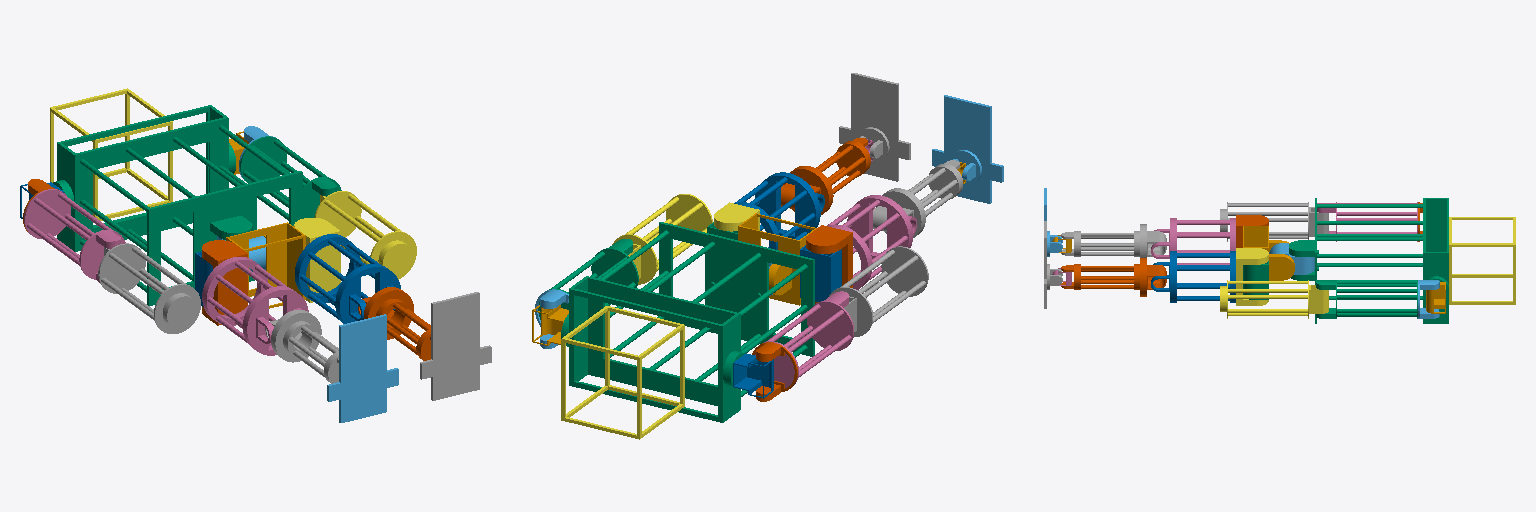
--- What the picture shows (computed from the rendered views, not written in the file) ---
The picture shows the robot from 3 angles, left to right: view 1: azimuth 30°, elevation 25°; view 2: azimuth 150°, elevation 25°; view 3: azimuth 270°, elevation 25°; orthographic projection.
Robot: olympian — 24 links, 23 joints (23 continuous); root link base_link; default pose: all joints at 0.
Links seen in each view (by area): view 1: Chest_v13_1, Foot_v4_2, Foot_v4_1, Lower_Arm_v8_1, Upper_Leg_v4_1, Upper_Leg_v4_2, Upper_Arm_v10_1, Lower_Arm_v8_2, Lower_Leg_v6_1, Upper_Arm_v10_3, Box_Head_v5_1, base_link (+3 smaller); view 2: Chest_v13_1, Foot_v4_1, Foot_v4_2, Box_Head_v5_1, Lower_Arm_v8_1, Upper_Arm_v10_1, Upper_Leg_v4_1, Upper_Leg_v4_2, Lower_Arm_v8_2, Lower_Leg_v6_1, Lower_Leg_v6_2, base_link (+8 smaller); view 3: Chest_v13_1, Lower_Arm_v8_2, Lower_Leg_v6_2, Lower_Leg_v6_1, Upper_Leg_v4_2, Upper_Arm_v10_3, Lower_Arm_v8_1, Upper_Leg_v4_1, Box_Head_v5_1, base_link, Upper_Arm_v10_1, Leg_Roll_v4_2 (+2 smaller).
Link boxes in pixels (left/top/right/bottom): Chest_v13_1: left=53, top=105, right=302, bottom=305; Foot_v4_2: left=420, top=292, right=491, bottom=400; Foot_v4_1: left=327, top=314, right=398, bottom=422; Lower_Arm_v8_1: left=98, top=243, right=200, bottom=333; Upper_Leg_v4_1: left=202, top=257, right=308, bottom=355; Upper_Leg_v4_2: left=295, top=234, right=400, bottom=323; Upper_Arm_v10_1: left=24, top=189, right=125, bottom=282; Lower_Arm_v8_2: left=314, top=191, right=416, bottom=279; Lower_Leg_v6_1: left=265, top=310, right=338, bottom=383; Upper_Arm_v10_3: left=240, top=136, right=341, bottom=218; Box_Head_v5_1: left=50, top=88, right=172, bottom=220; base_link: left=226, top=222, right=305, bottom=308; Chest_v13_1: left=561, top=222, right=814, bottom=422; Foot_v4_1: left=932, top=95, right=1003, bottom=203; Foot_v4_2: left=839, top=73, right=910, bottom=181; Box_Head_v5_1: left=561, top=306, right=684, bottom=439; Lower_Arm_v8_1: left=829, top=246, right=928, bottom=336; Upper_Arm_v10_1: left=755, top=291, right=853, bottom=387; Upper_Leg_v4_1: left=827, top=195, right=916, bottom=289; Upper_Leg_v4_2: left=734, top=172, right=824, bottom=249; Lower_Arm_v8_2: left=612, top=194, right=712, bottom=284; Lower_Leg_v6_1: left=873, top=160, right=962, bottom=237; Lower_Leg_v6_2: left=781, top=138, right=870, bottom=214; base_link: left=738, top=213, right=816, bottom=305; Chest_v13_1: left=1289, top=198, right=1448, bottom=323; Lower_Arm_v8_2: left=1220, top=280, right=1328, bottom=318; Lower_Leg_v6_2: left=1061, top=258, right=1166, bottom=296; Lower_Leg_v6_1: left=1061, top=224, right=1166, bottom=257; Upper_Leg_v4_2: left=1151, top=251, right=1235, bottom=302; Upper_Arm_v10_3: left=1316, top=280, right=1417, bottom=318; Lower_Arm_v8_1: left=1220, top=202, right=1328, bottom=241; Upper_Leg_v4_1: left=1151, top=218, right=1235, bottom=264; Box_Head_v5_1: left=1449, top=217, right=1515, bottom=304; base_link: left=1243, top=226, right=1294, bottom=280; Upper_Arm_v10_1: left=1317, top=202, right=1417, bottom=241; Leg_Roll_v4_2: left=1236, top=248, right=1268, bottom=305.
Size in the robot's own frame: 0.85 by 1.81 by 0.35 metres.
Meshes: 24 distinct files referenced, 24 mesh visuals loaded (24 binary STL).

URDF robot description (olympian):
<?xml version="1.0" ?>
<robot name="olympian">

<material name="silver">
  <color rgba="0.700 0.700 0.700 1.000"/>
</material>

<link name="base_link">
  <inertial>
    <origin rpy="0 0 0" xyz="0.10000000000000007 0.8721666232732109 0.09999999999999991"/>
    <mass value="1.1521008690150791"/>
    <inertia ixx="0.005223496631877045" ixy="1.3877787807814457e-17" ixz="-5.204170427930421e-18" iyy="0.008530264202422193" iyz="1.3877787807814457e-17" izz="0.00899190194325905"/>
  </inertial>
  <visual>
    <origin rpy="0 0 0" xyz="0 0 0"/>
    <geometry>
      <mesh filename="meshes/base_link.stl" scale="0.001 0.001 0.001"/>
    </geometry>
    <material name="silver"/>
    <material/>
  </visual>
  <collision>
    <origin rpy="0 0 0" xyz="0 0 0"/>
    <geometry>
      <mesh filename="meshes/base_link.stl" scale="0.001 0.001 0.001"/>
    </geometry>
  </collision>
</link>

<link name="Pelvis_v7_1">
  <inertial>
    <origin rpy="0 0 0" xyz="0.0500000000000001 0.029353425629582097 -8.326672684688674e-17"/>
    <mass value="0.5947505206015595"/>
    <inertia ixx="0.001878872568180423" ixy="-6.938893903907228e-18" ixz="8.673617379884035e-19" iyy="0.0010976440297574865" iyz="0.0" izz="0.0020170369281690137"/>
  </inertial>
  <visual>
    <origin rpy="0 0 0" xyz="-0.05 -0.912 -0.1"/>
    <geometry>
      <mesh filename="meshes/Pelvis_v7_1.stl" scale="0.001 0.001 0.001"/>
    </geometry>
    <material name="silver"/>
    <material/>
  </visual>
  <collision>
    <origin rpy="0 0 0" xyz="-0.05 -0.912 -0.1"/>
    <geometry>
      <mesh filename="meshes/Pelvis_v7_1.stl" scale="0.001 0.001 0.001"/>
    </geometry>
  </collision>
</link>

<link name="Chest_v13_1">
  <inertial>
    <origin rpy="0 0 0" xyz="-8.16883662474871e-05 0.29542660059637427 0.03749999999999985"/>
    <mass value="5.882339234080889"/>
    <inertia ixx="0.3281120038896237" ixy="-0.00011552947303483663" ixz="-4.85722573273506e-17" iyy="0.23780786856479746" iyz="0.0" izz="0.462024450225778"/>
  </inertial>
  <visual>
    <origin rpy="0 0 0" xyz="-0.1 -0.987 -0.0625"/>
    <geometry>
      <mesh filename="meshes/Chest_v13_1.stl" scale="0.001 0.001 0.001"/>
    </geometry>
    <material name="silver"/>
    <material/>
  </visual>
  <collision>
    <origin rpy="0 0 0" xyz="-0.1 -0.987 -0.0625"/>
    <geometry>
      <mesh filename="meshes/Chest_v13_1.stl" scale="0.001 0.001 0.001"/>
    </geometry>
  </collision>
</link>

<link name="Box_Head_v5_1">
  <inertial>
    <origin rpy="0 0 0" xyz="7.216449660063518e-16 0.12700000029388225 -7.494005416219807e-16"/>
    <mass value="0.4129840000000015"/>
    <inertia ixx="0.00953546956266682" ixy="0.0" ixz="-1.231653667943533e-16" iyy="0.009535469562666835" iyz="-6.938893903907228e-17" izz="0.009535469562666599"/>
  </inertial>
  <visual>
    <origin rpy="0 0 0" xyz="-0.1 -1.5534 -0.1"/>
    <geometry>
      <mesh filename="meshes/Box_Head_v5_1.stl" scale="0.001 0.001 0.001"/>
    </geometry>
    <material name="silver"/>
    <material/>
  </visual>
  <collision>
    <origin rpy="0 0 0" xyz="-0.1 -1.5534 -0.1"/>
    <geometry>
      <mesh filename="meshes/Box_Head_v5_1.stl" scale="0.001 0.001 0.001"/>
    </geometry>
  </collision>
</link>

<link name="Upper_Arm_Link_type_b_v9_1">
  <inertial>
    <origin rpy="0 0 0" xyz="-0.03931045800644403 -0.01095588172168327 -1.1102230246251565e-16"/>
    <mass value="0.11011202726048713"/>
    <inertia ixx="0.00016930933911268875" ixy="-1.8614392972189642e-05" ixz="0.0" iyy="0.00022075846035969106" iyz="0.0" izz="0.00018206077085142214"/>
  </inertial>
  <visual>
    <origin rpy="0 0 0" xyz="0.175 -1.5034 -0.1"/>
    <geometry>
      <mesh filename="meshes/Upper_Arm_Link_type_b_v9_1.stl" scale="0.001 0.001 0.001"/>
    </geometry>
    <material name="silver"/>
    <material/>
  </visual>
  <collision>
    <origin rpy="0 0 0" xyz="0.175 -1.5034 -0.1"/>
    <geometry>
      <mesh filename="meshes/Upper_Arm_Link_type_b_v9_1.stl" scale="0.001 0.001 0.001"/>
    </geometry>
  </collision>
</link>

<link name="Upper_Arm_Roll_Link_v5_1">
  <inertial>
    <origin rpy="0 0 0" xyz="2.7755575615628914e-16 -0.022135117628713674 0.04999999999999977"/>
    <mass value="0.29143432706119626"/>
    <inertia ixx="0.001232763287600247" ixy="-1.3877787807814457e-17" ixz="0.0" iyy="0.0011938412922212066" iyz="0.0" izz="0.0002924682777396548"/>
  </inertial>
  <visual>
    <origin rpy="0 0 0" xyz="0.25 -1.4909 -0.05"/>
    <geometry>
      <mesh filename="meshes/Upper_Arm_Roll_Link_v5_1.stl" scale="0.001 0.001 0.001"/>
    </geometry>
    <material name="silver"/>
    <material/>
  </visual>
  <collision>
    <origin rpy="0 0 0" xyz="0.25 -1.4909 -0.05"/>
    <geometry>
      <mesh filename="meshes/Upper_Arm_Roll_Link_v5_1.stl" scale="0.001 0.001 0.001"/>
    </geometry>
  </collision>
</link>

<link name="Upper_Arm_v10_1">
  <inertial>
    <origin rpy="0 0 0" xyz="-9.4696507857428e-09 -0.2073127422998453 -2.498001805406602e-16"/>
    <mass value="0.9419240929020993"/>
    <inertia ixx="0.019683528982801235" ixy="-1.6353899900956037e-09" ixz="5.370703881624195e-15" iyy="0.0034983199985584718" iyz="4.163336342344337e-17" izz="0.018812734327518177"/>
  </inertial>
  <visual>
    <origin rpy="0 0 0" xyz="0.25 -1.43455 -0.1"/>
    <geometry>
      <mesh filename="meshes/Upper_Arm_v10_1.stl" scale="0.001 0.001 0.001"/>
    </geometry>
    <material name="silver"/>
    <material/>
  </visual>
  <collision>
    <origin rpy="0 0 0" xyz="0.25 -1.43455 -0.1"/>
    <geometry>
      <mesh filename="meshes/Upper_Arm_v10_1.stl" scale="0.001 0.001 0.001"/>
    </geometry>
  </collision>
</link>

<link name="Lower_Arm_v8_1">
  <inertial>
    <origin rpy="0 0 0" xyz="-1.6264767310758543e-14 -0.22711717106463236 -0.05000000000000018"/>
    <mass value="1.1287862597517475"/>
    <inertia ixx="0.025545638419054995" ixy="1.7486012637846216e-15" ixz="5.367234434672241e-15" iyy="0.0030604925430051527" iyz="0.0" izz="0.025477987567271376"/>
  </inertial>
  <visual>
    <origin rpy="0 0 0" xyz="0.25 -1.06705 -0.15"/>
    <geometry>
      <mesh filename="meshes/Lower_Arm_v8_1.stl" scale="0.001 0.001 0.001"/>
    </geometry>
    <material name="silver"/>
    <material/>
  </visual>
  <collision>
    <origin rpy="0 0 0" xyz="0.25 -1.06705 -0.15"/>
    <geometry>
      <mesh filename="meshes/Lower_Arm_v8_1.stl" scale="0.001 0.001 0.001"/>
    </geometry>
  </collision>
</link>

<link name="Upper_Arm_Link_type_b_v9_2">
  <inertial>
    <origin rpy="0 0 0" xyz="0.039310458006444615 -0.01095588172168327 -2.3592239273284576e-16"/>
    <mass value="0.11011202726048713"/>
    <inertia ixx="0.00016930933911268875" ixy="1.861439297219658e-05" ixz="8.673617379884035e-19" iyy="0.00022075846035969626" iyz="3.469446951953614e-18" izz="0.00018206077085142214"/>
  </inertial>
  <visual>
    <origin rpy="0 0 0" xyz="-0.375 -1.5034 -0.1"/>
    <geometry>
      <mesh filename="meshes/Upper_Arm_Link_type_b_v9_2.stl" scale="0.001 0.001 0.001"/>
    </geometry>
    <material name="silver"/>
    <material/>
  </visual>
  <collision>
    <origin rpy="0 0 0" xyz="-0.375 -1.5034 -0.1"/>
    <geometry>
      <mesh filename="meshes/Upper_Arm_Link_type_b_v9_2.stl" scale="0.001 0.001 0.001"/>
    </geometry>
  </collision>
</link>

<link name="Upper_Arm_Roll_Link_v5_2">
  <inertial>
    <origin rpy="0 0 0" xyz="1.1102230246251565e-16 -0.022135117628713674 0.04999999999999988"/>
    <mass value="0.29143432706119626"/>
    <inertia ixx="0.001232763287600247" ixy="-2.7755575615628914e-17" ixz="-3.469446951953614e-18" iyy="0.0011938412922212066" iyz="6.938893903907228e-18" izz="0.0002924682777396548"/>
  </inertial>
  <visual>
    <origin rpy="0 0 0" xyz="-0.45 -1.4909 -0.05"/>
    <geometry>
      <mesh filename="meshes/Upper_Arm_Roll_Link_v5_2.stl" scale="0.001 0.001 0.001"/>
    </geometry>
    <material name="silver"/>
    <material/>
  </visual>
  <collision>
    <origin rpy="0 0 0" xyz="-0.45 -1.4909 -0.05"/>
    <geometry>
      <mesh filename="meshes/Upper_Arm_Roll_Link_v5_2.stl" scale="0.001 0.001 0.001"/>
    </geometry>
  </collision>
</link>

<link name="Upper_Arm_v10_3">
  <inertial>
    <origin rpy="0 0 0" xyz="-9.469650730231649e-09 -0.2073127422998453 -1.249000902703301e-16"/>
    <mass value="0.9419240929020993"/>
    <inertia ixx="0.019683528982801235" ixy="-1.63538982356215e-09" ixz="5.377642775528102e-15" iyy="0.00349831999855843" iyz="2.7755575615628914e-17" izz="0.018812734327517733"/>
  </inertial>
  <visual>
    <origin rpy="0 0 0" xyz="-0.45 -1.43455 -0.1"/>
    <geometry>
      <mesh filename="meshes/Upper_Arm_v10_3.stl" scale="0.001 0.001 0.001"/>
    </geometry>
    <material name="silver"/>
    <material/>
  </visual>
  <collision>
    <origin rpy="0 0 0" xyz="-0.45 -1.43455 -0.1"/>
    <geometry>
      <mesh filename="meshes/Upper_Arm_v10_3.stl" scale="0.001 0.001 0.001"/>
    </geometry>
  </collision>
</link>

<link name="Lower_Arm_v8_2">
  <inertial>
    <origin rpy="0 0 0" xyz="-1.6264767310758543e-14 -0.22711717106463236 0.04999999999999989"/>
    <mass value="1.1287862597517475"/>
    <inertia ixx="0.025545638419054995" ixy="1.7208456881689926e-15" ixz="5.370703881624195e-15" iyy="0.0030604925430051666" iyz="0.0" izz="0.02547798756727171"/>
  </inertial>
  <visual>
    <origin rpy="0 0 0" xyz="-0.45 -1.06705 -0.05"/>
    <geometry>
      <mesh filename="meshes/Lower_Arm_v8_2.stl" scale="0.001 0.001 0.001"/>
    </geometry>
    <material name="silver"/>
    <material/>
  </visual>
  <collision>
    <origin rpy="0 0 0" xyz="-0.45 -1.06705 -0.05"/>
    <geometry>
      <mesh filename="meshes/Lower_Arm_v8_2.stl" scale="0.001 0.001 0.001"/>
    </geometry>
  </collision>
</link>

<link name="Leg_Pitch_v5_1">
  <inertial>
    <origin rpy="0 0 0" xyz="-0.04683508876022923 0.003164911239771029 -1.249000902703301e-16"/>
    <mass value="0.3280666863874879"/>
    <inertia ixx="0.0010883631339249633" ixy="5.307553597740794e-05" ixz="0.0" iyy="0.0010883631339250101" iyz="-3.469446951953614e-18" izz="0.0009464761938969279"/>
  </inertial>
  <visual>
    <origin rpy="0 0 0" xyz="-0.0 -0.812 -0.1"/>
    <geometry>
      <mesh filename="meshes/Leg_Pitch_v5_1.stl" scale="0.001 0.001 0.001"/>
    </geometry>
    <material name="silver"/>
    <material/>
  </visual>
  <collision>
    <origin rpy="0 0 0" xyz="-0.0 -0.812 -0.1"/>
    <geometry>
      <mesh filename="meshes/Leg_Pitch_v5_1.stl" scale="0.001 0.001 0.001"/>
    </geometry>
  </collision>
</link>

<link name="Leg_Roll_v4_1">
  <inertial>
    <origin rpy="0 0 0" xyz="4.163336342344337e-17 -0.035223067053444135 0.07499999999999987"/>
    <mass value="1.3532798434145876"/>
    <inertia ixx="0.008928053332240893" ixy="2.0816681711721685e-17" ixz="2.6020852139652106e-18" iyy="0.008372644528454914" iyz="1.3877787807814457e-17" izz="0.002693883608054226"/>
  </inertial>
  <visual>
    <origin rpy="0 0 0" xyz="0.05 -0.812 -0.025"/>
    <geometry>
      <mesh filename="meshes/Leg_Roll_v4_1.stl" scale="0.001 0.001 0.001"/>
    </geometry>
    <material name="silver"/>
    <material/>
  </visual>
  <collision>
    <origin rpy="0 0 0" xyz="0.05 -0.812 -0.025"/>
    <geometry>
      <mesh filename="meshes/Leg_Roll_v4_1.stl" scale="0.001 0.001 0.001"/>
    </geometry>
  </collision>
</link>

<link name="Upper_Leg_v4_1">
  <inertial>
    <origin rpy="0 0 0" xyz="1.1102230246251565e-16 -0.15757232755407236 -1.8041124150158794e-16"/>
    <mass value="1.7214182603818151"/>
    <inertia ixx="0.023647064861463618" ixy="6.938893903907228e-18" ixz="1.734723475976807e-18" iyy="0.012028681141913265" iyz="0.0" izz="0.02456431452088892"/>
  </inertial>
  <visual>
    <origin rpy="0 0 0" xyz="0.05 -0.737 -0.1"/>
    <geometry>
      <mesh filename="meshes/Upper_Leg_v4_1.stl" scale="0.001 0.001 0.001"/>
    </geometry>
    <material name="silver"/>
    <material/>
  </visual>
  <collision>
    <origin rpy="0 0 0" xyz="0.05 -0.737 -0.1"/>
    <geometry>
      <mesh filename="meshes/Upper_Leg_v4_1.stl" scale="0.001 0.001 0.001"/>
    </geometry>
  </collision>
</link>

<link name="Lower_Leg_v6_1">
  <inertial>
    <origin rpy="0 0 0" xyz="0.04999999999999136 -0.14147821247779935 -2.220446049250313e-16"/>
    <mass value="1.4272888897799032"/>
    <inertia ixx="0.020272030317633083" ixy="-1.321859288694327e-15" ixz="-2.2083029849184754e-15" iyy="0.0030707995313369076" iyz="2.0816681711721685e-17" izz="0.0202788236044206"/>
  </inertial>
  <visual>
    <origin rpy="0 0 0" xyz="0.1 -0.4388 -0.1"/>
    <geometry>
      <mesh filename="meshes/Lower_Leg_v6_1.stl" scale="0.001 0.001 0.001"/>
    </geometry>
    <material name="silver"/>
    <material/>
  </visual>
  <collision>
    <origin rpy="0 0 0" xyz="0.1 -0.4388 -0.1"/>
    <geometry>
      <mesh filename="meshes/Lower_Leg_v6_1.stl" scale="0.001 0.001 0.001"/>
    </geometry>
  </collision>
</link>

<link name="Ankle_Link_v5_1">
  <inertial>
    <origin rpy="0 0 0" xyz="1.3877787807814457e-16 -0.014239102534719106 0.02999999999999975"/>
    <mass value="0.02966359637804546"/>
    <inertia ixx="3.134717230673462e-05" ixy="4.0657581468206416e-20" ixz="-2.710505431213761e-20" iyy="1.4582407636994814e-05" iyz="-8.131516293641283e-20" izz="2.6914982867941583e-05"/>
  </inertial>
  <visual>
    <origin rpy="0 0 0" xyz="0.05 -0.0856 -0.07"/>
    <geometry>
      <mesh filename="meshes/Ankle_Link_v5_1.stl" scale="0.001 0.001 0.001"/>
    </geometry>
    <material name="silver"/>
    <material/>
  </visual>
  <collision>
    <origin rpy="0 0 0" xyz="0.05 -0.0856 -0.07"/>
    <geometry>
      <mesh filename="meshes/Ankle_Link_v5_1.stl" scale="0.001 0.001 0.001"/>
    </geometry>
  </collision>
</link>

<link name="Foot_v4_1">
  <inertial>
    <origin rpy="0 0 0" xyz="0.019685521169740886 -0.04039401004788472 0.03625642783112948"/>
    <mass value="0.8921618023336354"/>
    <inertia ixx="0.005514801902865251" ixy="-1.2922841769047867e-06" ixz="2.766319069131759e-06" iyy="0.0072372522773541705" iyz="0.00014898811458507826" izz="0.0019767483724834646"/>
  </inertial>
  <visual>
    <origin rpy="0 0 0" xyz="0.07 -0.0506 -0.1"/>
    <geometry>
      <mesh filename="meshes/Foot_v4_1.stl" scale="0.001 0.001 0.001"/>
    </geometry>
    <material name="silver"/>
    <material/>
  </visual>
  <collision>
    <origin rpy="0 0 0" xyz="0.07 -0.0506 -0.1"/>
    <geometry>
      <mesh filename="meshes/Foot_v4_1.stl" scale="0.001 0.001 0.001"/>
    </geometry>
  </collision>
</link>

<link name="Leg_Pitch_v5_2">
  <inertial>
    <origin rpy="0 0 0" xyz="0.046835088760229515 0.003164911239771029 -1.1102230246251565e-16"/>
    <mass value="0.3280666863874879"/>
    <inertia ixx="0.0010883631339249633" ixy="-5.307553597741488e-05" ixz="-1.734723475976807e-18" iyy="0.0010883631339250188" iyz="0.0" izz="0.0009464761938969279"/>
  </inertial>
  <visual>
    <origin rpy="0 0 0" xyz="-0.2 -0.812 -0.1"/>
    <geometry>
      <mesh filename="meshes/Leg_Pitch_v5_2.stl" scale="0.001 0.001 0.001"/>
    </geometry>
    <material name="silver"/>
    <material/>
  </visual>
  <collision>
    <origin rpy="0 0 0" xyz="-0.2 -0.812 -0.1"/>
    <geometry>
      <mesh filename="meshes/Leg_Pitch_v5_2.stl" scale="0.001 0.001 0.001"/>
    </geometry>
  </collision>
</link>

<link name="Leg_Roll_v4_2">
  <inertial>
    <origin rpy="0 0 0" xyz="3.3306690738754696e-16 -0.035223067053444135 0.0749999999999999"/>
    <mass value="1.3532798434145876"/>
    <inertia ixx="0.008928053332240893" ixy="-5.551115123125783e-17" ixz="-6.938893903907228e-18" iyy="0.008372644528454903" iyz="-1.3877787807814457e-17" izz="0.002693883608054337"/>
  </inertial>
  <visual>
    <origin rpy="0 0 0" xyz="-0.25 -0.812 -0.025"/>
    <geometry>
      <mesh filename="meshes/Leg_Roll_v4_2.stl" scale="0.001 0.001 0.001"/>
    </geometry>
    <material name="silver"/>
    <material/>
  </visual>
  <collision>
    <origin rpy="0 0 0" xyz="-0.25 -0.812 -0.025"/>
    <geometry>
      <mesh filename="meshes/Leg_Roll_v4_2.stl" scale="0.001 0.001 0.001"/>
    </geometry>
  </collision>
</link>

<link name="Upper_Leg_v4_2">
  <inertial>
    <origin rpy="0 0 0" xyz="3.885780586188048e-16 -0.15757232755407236 -1.249000902703301e-16"/>
    <mass value="1.7214182603818151"/>
    <inertia ixx="0.023647064861463618" ixy="-5.551115123125783e-17" ixz="0.0" iyy="0.012028681141913258" iyz="0.0" izz="0.02456431452088892"/>
  </inertial>
  <visual>
    <origin rpy="0 0 0" xyz="-0.25 -0.737 -0.1"/>
    <geometry>
      <mesh filename="meshes/Upper_Leg_v4_2.stl" scale="0.001 0.001 0.001"/>
    </geometry>
    <material name="silver"/>
    <material/>
  </visual>
  <collision>
    <origin rpy="0 0 0" xyz="-0.25 -0.737 -0.1"/>
    <geometry>
      <mesh filename="meshes/Upper_Leg_v4_2.stl" scale="0.001 0.001 0.001"/>
    </geometry>
  </collision>
</link>

<link name="Lower_Leg_v6_2">
  <inertial>
    <origin rpy="0 0 0" xyz="-0.05000000000000834 -0.14147821247779935 -9.71445146547012e-17"/>
    <mass value="1.4272888897799032"/>
    <inertia ixx="0.02027203031763311" ixy="-1.2906342661267445e-15" ixz="-2.2065682614424986e-15" iyy="0.003070799531336932" iyz="2.7755575615628914e-17" izz="0.0202788236044206"/>
  </inertial>
  <visual>
    <origin rpy="0 0 0" xyz="-0.3 -0.4388 -0.1"/>
    <geometry>
      <mesh filename="meshes/Lower_Leg_v6_2.stl" scale="0.001 0.001 0.001"/>
    </geometry>
    <material name="silver"/>
    <material/>
  </visual>
  <collision>
    <origin rpy="0 0 0" xyz="-0.3 -0.4388 -0.1"/>
    <geometry>
      <mesh filename="meshes/Lower_Leg_v6_2.stl" scale="0.001 0.001 0.001"/>
    </geometry>
  </collision>
</link>

<link name="Ankle_Link_v5_2">
  <inertial>
    <origin rpy="0 0 0" xyz="3.3306690738754696e-16 -0.014239102534719106 0.03"/>
    <mass value="0.02966359637804546"/>
    <inertia ixx="3.134717230673467e-05" ixy="-1.0842021724855044e-19" ixz="1.0842021724855044e-19" iyy="1.4582407636995302e-05" iyz="-8.131516293641283e-20" izz="2.6914982867942694e-05"/>
  </inertial>
  <visual>
    <origin rpy="0 0 0" xyz="-0.25 -0.0856 -0.07"/>
    <geometry>
      <mesh filename="meshes/Ankle_Link_v5_2.stl" scale="0.001 0.001 0.001"/>
    </geometry>
    <material name="silver"/>
    <material/>
  </visual>
  <collision>
    <origin rpy="0 0 0" xyz="-0.25 -0.0856 -0.07"/>
    <geometry>
      <mesh filename="meshes/Ankle_Link_v5_2.stl" scale="0.001 0.001 0.001"/>
    </geometry>
  </collision>
</link>

<link name="Foot_v4_2">
  <inertial>
    <origin rpy="0 0 0" xyz="-0.020314478830258637 -0.040394010047884774 0.03625642783112962"/>
    <mass value="0.8921618023336354"/>
    <inertia ixx="0.0055148019028652545" ixy="-1.2922841769041904e-06" ixz="2.766319069126555e-06" iyy="0.007237252277354292" iyz="0.00014898811458507587" izz="0.001976748372483461"/>
  </inertial>
  <visual>
    <origin rpy="0 0 0" xyz="-0.27 -0.0506 -0.1"/>
    <geometry>
      <mesh filename="meshes/Foot_v4_2.stl" scale="0.001 0.001 0.001"/>
    </geometry>
    <material name="silver"/>
    <material/>
  </visual>
  <collision>
    <origin rpy="0 0 0" xyz="-0.27 -0.0506 -0.1"/>
    <geometry>
      <mesh filename="meshes/Foot_v4_2.stl" scale="0.001 0.001 0.001"/>
    </geometry>
  </collision>
</link>

<joint name="Rev1" type="continuous">
  <origin rpy="0 0 0" xyz="0.05 0.912 0.1"/>
  <parent link="base_link"/>
  <child link="Pelvis_v7_1"/>
  <axis xyz="1.0 -0.0 -0.0"/>
</joint>
<transmission name="Rev1_tran">
  <type>transmission_interface/SimpleTransmission</type>
  <joint name="Rev1">
    <hardwareInterface>PositionJointInterface</hardwareInterface>
  </joint>
  <actuator name="Rev1_actr">
    <hardwareInterface>PositionJointInterface</hardwareInterface>
    <mechanicalReduction>1</mechanicalReduction>
  </actuator>
</transmission>

<joint name="Rev2" type="continuous">
  <origin rpy="0 0 0" xyz="0.05 0.075 -0.0375"/>
  <parent link="Pelvis_v7_1"/>
  <child link="Chest_v13_1"/>
  <axis xyz="-0.0 -0.0 -1.0"/>
</joint>
<transmission name="Rev2_tran">
  <type>transmission_interface/SimpleTransmission</type>
  <joint name="Rev2">
    <hardwareInterface>PositionJointInterface</hardwareInterface>
  </joint>
  <actuator name="Rev2_actr">
    <hardwareInterface>PositionJointInterface</hardwareInterface>
    <mechanicalReduction>1</mechanicalReduction>
  </actuator>
</transmission>

<joint name="Rev11" type="continuous">
  <origin rpy="0 0 0" xyz="0.0 0.5664 0.0375"/>
  <parent link="Chest_v13_1"/>
  <child link="Box_Head_v5_1"/>
  <axis xyz="0.0 1.0 -0.0"/>
</joint>
<transmission name="Rev11_tran">
  <type>transmission_interface/SimpleTransmission</type>
  <joint name="Rev11">
    <hardwareInterface>PositionJointInterface</hardwareInterface>
  </joint>
  <actuator name="Rev11_actr">
    <hardwareInterface>PositionJointInterface</hardwareInterface>
    <mechanicalReduction>1</mechanicalReduction>
  </actuator>
</transmission>

<joint name="Rev3" type="continuous">
  <origin rpy="0 0 0" xyz="-0.275 0.5164 0.0375"/>
  <parent link="Chest_v13_1"/>
  <child link="Upper_Arm_Link_type_b_v9_1"/>
  <axis xyz="-1.0 0.0 0.0"/>
</joint>
<transmission name="Rev3_tran">
  <type>transmission_interface/SimpleTransmission</type>
  <joint name="Rev3">
    <hardwareInterface>PositionJointInterface</hardwareInterface>
  </joint>
  <actuator name="Rev3_actr">
    <hardwareInterface>PositionJointInterface</hardwareInterface>
    <mechanicalReduction>1</mechanicalReduction>
  </actuator>
</transmission>

<joint name="Rev4" type="continuous">
  <origin rpy="0 0 0" xyz="-0.075 -0.0125 -0.05"/>
  <parent link="Upper_Arm_Link_type_b_v9_1"/>
  <child link="Upper_Arm_Roll_Link_v5_1"/>
  <axis xyz="0.0 -0.0 -1.0"/>
</joint>
<transmission name="Rev4_tran">
  <type>transmission_interface/SimpleTransmission</type>
  <joint name="Rev4">
    <hardwareInterface>PositionJointInterface</hardwareInterface>
  </joint>
  <actuator name="Rev4_actr">
    <hardwareInterface>PositionJointInterface</hardwareInterface>
    <mechanicalReduction>1</mechanicalReduction>
  </actuator>
</transmission>

<joint name="Rev5" type="continuous">
  <origin rpy="0 0 0" xyz="0.0 -0.05635 0.05"/>
  <parent link="Upper_Arm_Roll_Link_v5_1"/>
  <child link="Upper_Arm_v10_1"/>
  <axis xyz="-0.0 -1.0 0.0"/>
</joint>
<transmission name="Rev5_tran">
  <type>transmission_interface/SimpleTransmission</type>
  <joint name="Rev5">
    <hardwareInterface>PositionJointInterface</hardwareInterface>
  </joint>
  <actuator name="Rev5_actr">
    <hardwareInterface>PositionJointInterface</hardwareInterface>
    <mechanicalReduction>1</mechanicalReduction>
  </actuator>
</transmission>

<joint name="Rev6" type="continuous">
  <origin rpy="0 0 0" xyz="0.0 -0.3675 0.05"/>
  <parent link="Upper_Arm_v10_1"/>
  <child link="Lower_Arm_v8_1"/>
  <axis xyz="0.0 -0.0 -1.0"/>
</joint>
<transmission name="Rev6_tran">
  <type>transmission_interface/SimpleTransmission</type>
  <joint name="Rev6">
    <hardwareInterface>PositionJointInterface</hardwareInterface>
  </joint>
  <actuator name="Rev6_actr">
    <hardwareInterface>PositionJointInterface</hardwareInterface>
    <mechanicalReduction>1</mechanicalReduction>
  </actuator>
</transmission>

<joint name="Rev7" type="continuous">
  <origin rpy="0 0 0" xyz="0.275 0.5164 0.0375"/>
  <parent link="Chest_v13_1"/>
  <child link="Upper_Arm_Link_type_b_v9_2"/>
  <axis xyz="1.0 -0.0 -0.0"/>
</joint>
<transmission name="Rev7_tran">
  <type>transmission_interface/SimpleTransmission</type>
  <joint name="Rev7">
    <hardwareInterface>PositionJointInterface</hardwareInterface>
  </joint>
  <actuator name="Rev7_actr">
    <hardwareInterface>PositionJointInterface</hardwareInterface>
    <mechanicalReduction>1</mechanicalReduction>
  </actuator>
</transmission>

<joint name="Rev8" type="continuous">
  <origin rpy="0 0 0" xyz="0.075 -0.0125 -0.05"/>
  <parent link="Upper_Arm_Link_type_b_v9_2"/>
  <child link="Upper_Arm_Roll_Link_v5_2"/>
  <axis xyz="0.0 -0.0 -1.0"/>
</joint>
<transmission name="Rev8_tran">
  <type>transmission_interface/SimpleTransmission</type>
  <joint name="Rev8">
    <hardwareInterface>PositionJointInterface</hardwareInterface>
  </joint>
  <actuator name="Rev8_actr">
    <hardwareInterface>PositionJointInterface</hardwareInterface>
    <mechanicalReduction>1</mechanicalReduction>
  </actuator>
</transmission>

<joint name="Rev9" type="continuous">
  <origin rpy="0 0 0" xyz="0.0 -0.05635 0.05"/>
  <parent link="Upper_Arm_Roll_Link_v5_2"/>
  <child link="Upper_Arm_v10_3"/>
  <axis xyz="0.0 -1.0 0.0"/>
</joint>
<transmission name="Rev9_tran">
  <type>transmission_interface/SimpleTransmission</type>
  <joint name="Rev9">
    <hardwareInterface>PositionJointInterface</hardwareInterface>
  </joint>
  <actuator name="Rev9_actr">
    <hardwareInterface>PositionJointInterface</hardwareInterface>
    <mechanicalReduction>1</mechanicalReduction>
  </actuator>
</transmission>

<joint name="Rev10" type="continuous">
  <origin rpy="0 0 0" xyz="0.0 -0.3675 -0.05"/>
  <parent link="Upper_Arm_v10_3"/>
  <child link="Lower_Arm_v8_2"/>
  <axis xyz="-0.0 0.0 1.0"/>
</joint>
<transmission name="Rev10_tran">
  <type>transmission_interface/SimpleTransmission</type>
  <joint name="Rev10">
    <hardwareInterface>PositionJointInterface</hardwareInterface>
  </joint>
  <actuator name="Rev10_actr">
    <hardwareInterface>PositionJointInterface</hardwareInterface>
    <mechanicalReduction>1</mechanicalReduction>
  </actuator>
</transmission>

<joint name="Rev12" type="continuous">
  <origin rpy="0 0 0" xyz="0.0 0.812 0.1"/>
  <parent link="base_link"/>
  <child link="Leg_Pitch_v5_1"/>
  <axis xyz="-1.0 0.0 0.0"/>
</joint>
<transmission name="Rev12_tran">
  <type>transmission_interface/SimpleTransmission</type>
  <joint name="Rev12">
    <hardwareInterface>PositionJointInterface</hardwareInterface>
  </joint>
  <actuator name="Rev12_actr">
    <hardwareInterface>PositionJointInterface</hardwareInterface>
    <mechanicalReduction>1</mechanicalReduction>
  </actuator>
</transmission>

<joint name="Rev13" type="continuous">
  <origin rpy="0 0 0" xyz="-0.05 0.0 -0.075"/>
  <parent link="Leg_Pitch_v5_1"/>
  <child link="Leg_Roll_v4_1"/>
  <axis xyz="0.0 0.0 -1.0"/>
</joint>
<transmission name="Rev13_tran">
  <type>transmission_interface/SimpleTransmission</type>
  <joint name="Rev13">
    <hardwareInterface>PositionJointInterface</hardwareInterface>
  </joint>
  <actuator name="Rev13_actr">
    <hardwareInterface>PositionJointInterface</hardwareInterface>
    <mechanicalReduction>1</mechanicalReduction>
  </actuator>
</transmission>

<joint name="Rev14" type="continuous">
  <origin rpy="0 0 0" xyz="0.0 -0.075 0.075"/>
  <parent link="Leg_Roll_v4_1"/>
  <child link="Upper_Leg_v4_1"/>
  <axis xyz="0.0 -1.0 0.0"/>
</joint>
<transmission name="Rev14_tran">
  <type>transmission_interface/SimpleTransmission</type>
  <joint name="Rev14">
    <hardwareInterface>PositionJointInterface</hardwareInterface>
  </joint>
  <actuator name="Rev14_actr">
    <hardwareInterface>PositionJointInterface</hardwareInterface>
    <mechanicalReduction>1</mechanicalReduction>
  </actuator>
</transmission>

<joint name="Rev15" type="continuous">
  <origin rpy="0 0 0" xyz="-0.05 -0.2982 0.0"/>
  <parent link="Upper_Leg_v4_1"/>
  <child link="Lower_Leg_v6_1"/>
  <axis xyz="1.0 -0.0 -0.0"/>
</joint>
<transmission name="Rev15_tran">
  <type>transmission_interface/SimpleTransmission</type>
  <joint name="Rev15">
    <hardwareInterface>PositionJointInterface</hardwareInterface>
  </joint>
  <actuator name="Rev15_actr">
    <hardwareInterface>PositionJointInterface</hardwareInterface>
    <mechanicalReduction>1</mechanicalReduction>
  </actuator>
</transmission>

<joint name="Rev16" type="continuous">
  <origin rpy="0 0 0" xyz="0.05 -0.3532 -0.03"/>
  <parent link="Lower_Leg_v6_1"/>
  <child link="Ankle_Link_v5_1"/>
  <axis xyz="-0.0 0.0 1.0"/>
</joint>
<transmission name="Rev16_tran">
  <type>transmission_interface/SimpleTransmission</type>
  <joint name="Rev16">
    <hardwareInterface>PositionJointInterface</hardwareInterface>
  </joint>
  <actuator name="Rev16_actr">
    <hardwareInterface>PositionJointInterface</hardwareInterface>
    <mechanicalReduction>1</mechanicalReduction>
  </actuator>
</transmission>

<joint name="Rev19" type="continuous">
  <origin rpy="0 0 0" xyz="-0.02 -0.035 0.03"/>
  <parent link="Ankle_Link_v5_1"/>
  <child link="Foot_v4_1"/>
  <axis xyz="-1.0 0.0 0.0"/>
</joint>
<transmission name="Rev19_tran">
  <type>transmission_interface/SimpleTransmission</type>
  <joint name="Rev19">
    <hardwareInterface>PositionJointInterface</hardwareInterface>
  </joint>
  <actuator name="Rev19_actr">
    <hardwareInterface>PositionJointInterface</hardwareInterface>
    <mechanicalReduction>1</mechanicalReduction>
  </actuator>
</transmission>

<joint name="Rev20" type="continuous">
  <origin rpy="0 0 0" xyz="0.2 0.812 0.1"/>
  <parent link="base_link"/>
  <child link="Leg_Pitch_v5_2"/>
  <axis xyz="1.0 -0.0 -0.0"/>
</joint>
<transmission name="Rev20_tran">
  <type>transmission_interface/SimpleTransmission</type>
  <joint name="Rev20">
    <hardwareInterface>PositionJointInterface</hardwareInterface>
  </joint>
  <actuator name="Rev20_actr">
    <hardwareInterface>PositionJointInterface</hardwareInterface>
    <mechanicalReduction>1</mechanicalReduction>
  </actuator>
</transmission>

<joint name="Rev21" type="continuous">
  <origin rpy="0 0 0" xyz="0.05 0.0 -0.075"/>
  <parent link="Leg_Pitch_v5_2"/>
  <child link="Leg_Roll_v4_2"/>
  <axis xyz="-0.0 -0.0 -1.0"/>
</joint>
<transmission name="Rev21_tran">
  <type>transmission_interface/SimpleTransmission</type>
  <joint name="Rev21">
    <hardwareInterface>PositionJointInterface</hardwareInterface>
  </joint>
  <actuator name="Rev21_actr">
    <hardwareInterface>PositionJointInterface</hardwareInterface>
    <mechanicalReduction>1</mechanicalReduction>
  </actuator>
</transmission>

<joint name="Rev22" type="continuous">
  <origin rpy="0 0 0" xyz="0.0 -0.075 0.075"/>
  <parent link="Leg_Roll_v4_2"/>
  <child link="Upper_Leg_v4_2"/>
  <axis xyz="0.0 -1.0 0.0"/>
</joint>
<transmission name="Rev22_tran">
  <type>transmission_interface/SimpleTransmission</type>
  <joint name="Rev22">
    <hardwareInterface>PositionJointInterface</hardwareInterface>
  </joint>
  <actuator name="Rev22_actr">
    <hardwareInterface>PositionJointInterface</hardwareInterface>
    <mechanicalReduction>1</mechanicalReduction>
  </actuator>
</transmission>

<joint name="Rev23" type="continuous">
  <origin rpy="0 0 0" xyz="0.05 -0.2982 0.0"/>
  <parent link="Upper_Leg_v4_2"/>
  <child link="Lower_Leg_v6_2"/>
  <axis xyz="-1.0 0.0 0.0"/>
</joint>
<transmission name="Rev23_tran">
  <type>transmission_interface/SimpleTransmission</type>
  <joint name="Rev23">
    <hardwareInterface>PositionJointInterface</hardwareInterface>
  </joint>
  <actuator name="Rev23_actr">
    <hardwareInterface>PositionJointInterface</hardwareInterface>
    <mechanicalReduction>1</mechanicalReduction>
  </actuator>
</transmission>

<joint name="Rev24" type="continuous">
  <origin rpy="0 0 0" xyz="-0.05 -0.3532 -0.03"/>
  <parent link="Lower_Leg_v6_2"/>
  <child link="Ankle_Link_v5_2"/>
  <axis xyz="-0.0 0.0 1.0"/>
</joint>
<transmission name="Rev24_tran">
  <type>transmission_interface/SimpleTransmission</type>
  <joint name="Rev24">
    <hardwareInterface>PositionJointInterface</hardwareInterface>
  </joint>
  <actuator name="Rev24_actr">
    <hardwareInterface>PositionJointInterface</hardwareInterface>
    <mechanicalReduction>1</mechanicalReduction>
  </actuator>
</transmission>

<joint name="Rev25" type="continuous">
  <origin rpy="0 0 0" xyz="0.02 -0.035 0.03"/>
  <parent link="Ankle_Link_v5_2"/>
  <child link="Foot_v4_2"/>
  <axis xyz="1.0 -0.0 -0.0"/>
</joint>
<transmission name="Rev25_tran">
  <type>transmission_interface/SimpleTransmission</type>
  <joint name="Rev25">
    <hardwareInterface>PositionJointInterface</hardwareInterface>
  </joint>
  <actuator name="Rev25_actr">
    <hardwareInterface>PositionJointInterface</hardwareInterface>
    <mechanicalReduction>1</mechanicalReduction>
  </actuator>
</transmission>

</robot>
